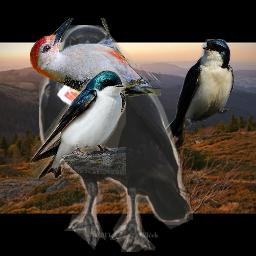Crow: (39, 25, 193, 252)
Swallow: (30, 70, 126, 179), (156, 39, 234, 155)
Woodpecker: (30, 18, 161, 97)
